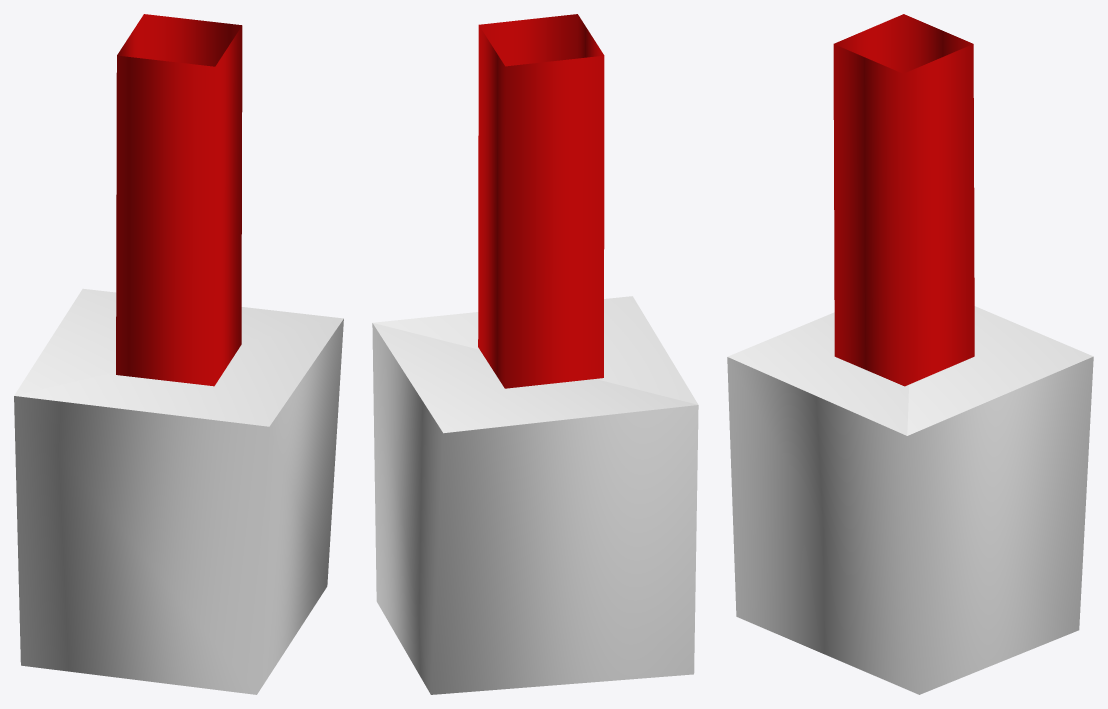
Rendered from Forearm.obj.
The picture shows the model from 3 angles, left to right: view 1: azimuth 30°, elevation 25°; view 2: azimuth 150°, elevation 25°; view 3: azimuth 270°, elevation 25°; orthographic projection. The views are drawn at different scales.
Bounding box in the file's own units: 3.64 × 6.28 × 3.61.
2 materials, 2 textured.
